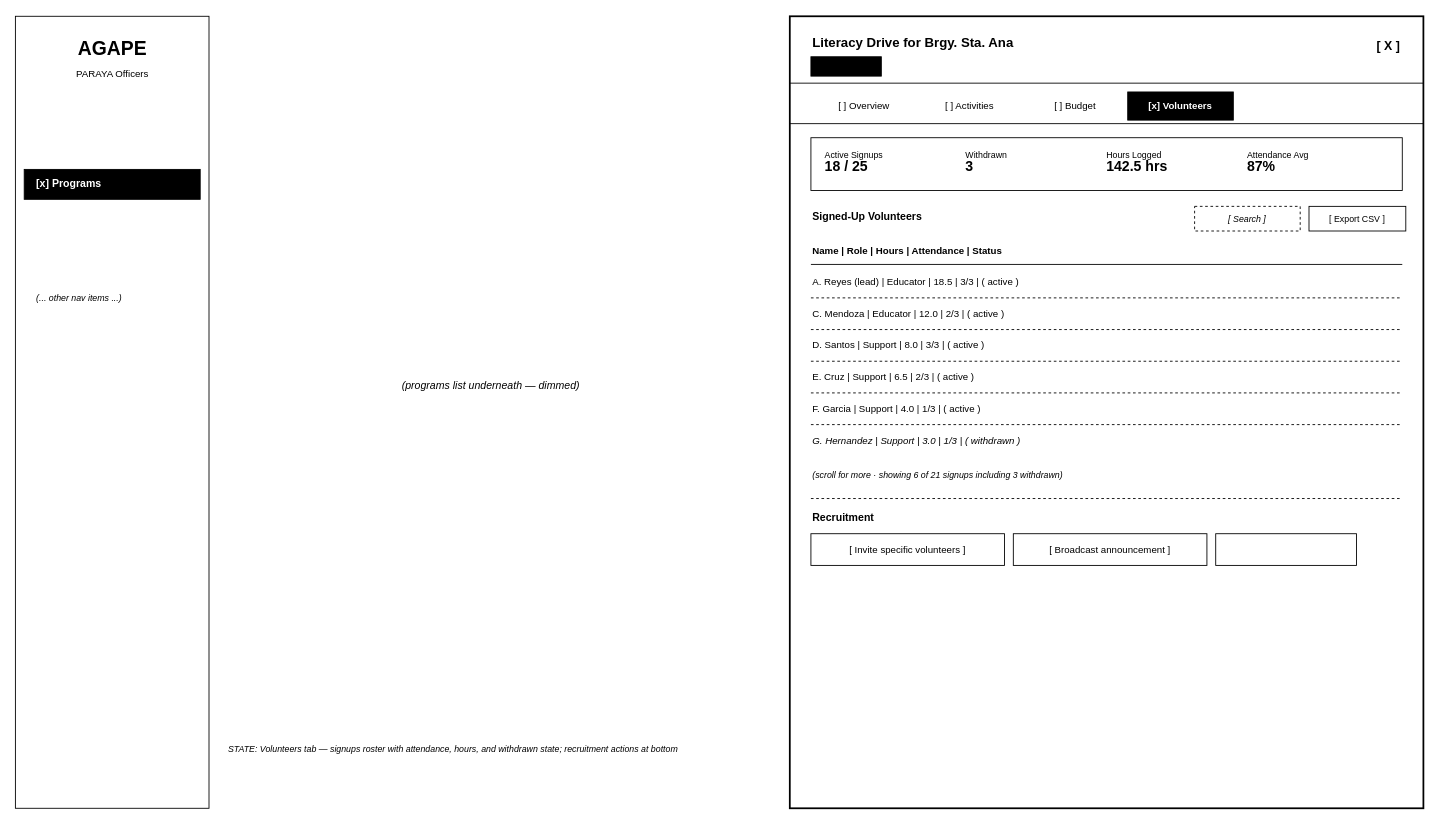
This 1440x824 diagram has some shape labels left out. Here are the shapes that lost their labels. From the top down, the box of each, then its label:
(810, 56, 881, 76): ( active )
(1215, 533, 1357, 565): [ Close signups ]
